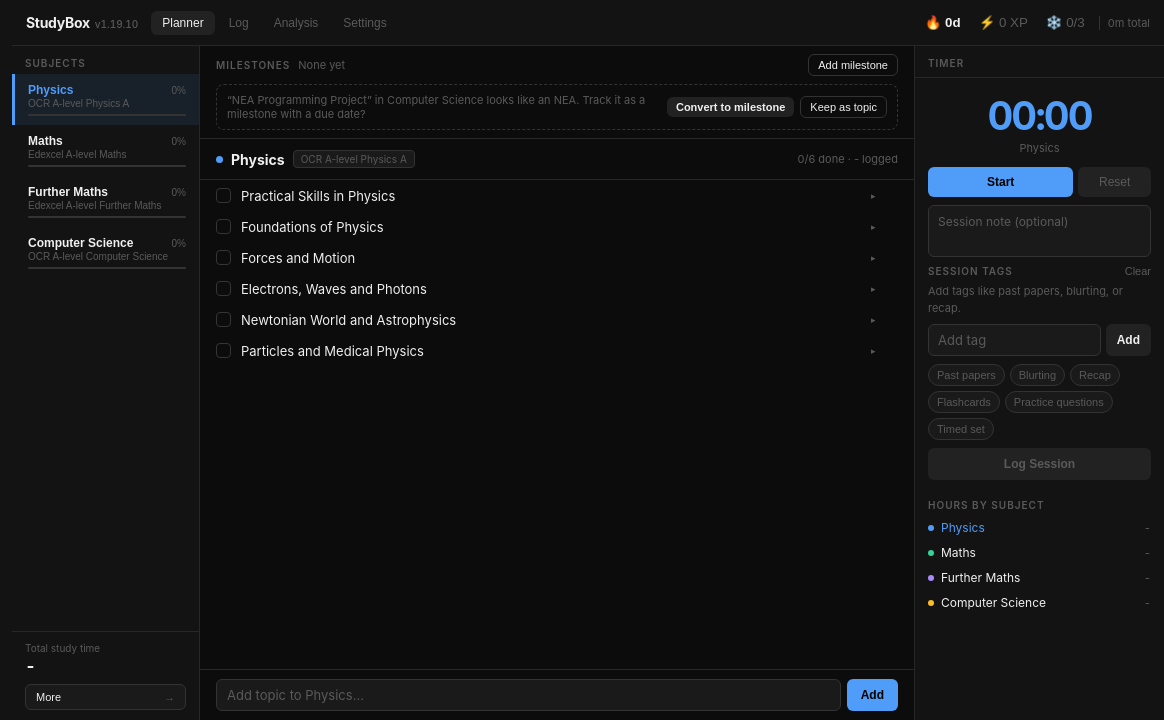
Test: when storage is full › clears the banner once the change is saved
The image size is (1164, 720).
Click the checkbox named "Complete topic ": x=224, y=196 [216,188,231,203]
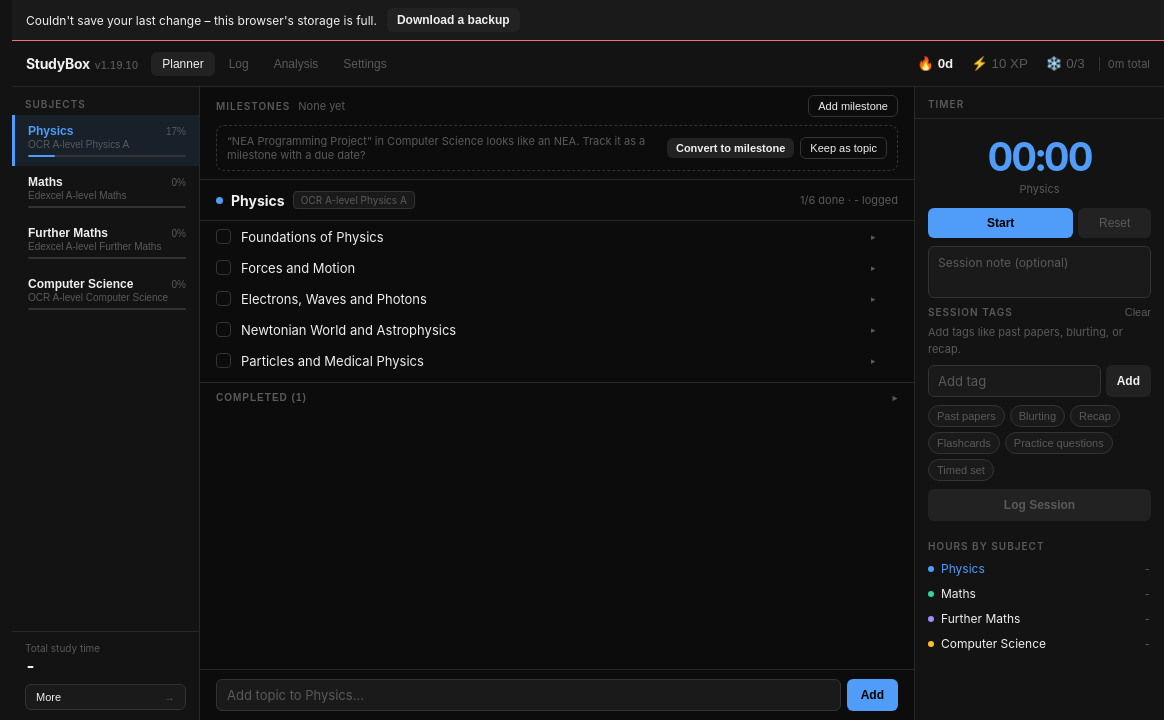
Check: the message "Couldn't save" is shown, box [12,0,1163,41]
Click the checkbox named "Complete topic ": x=224, y=236 [216,229,231,244]
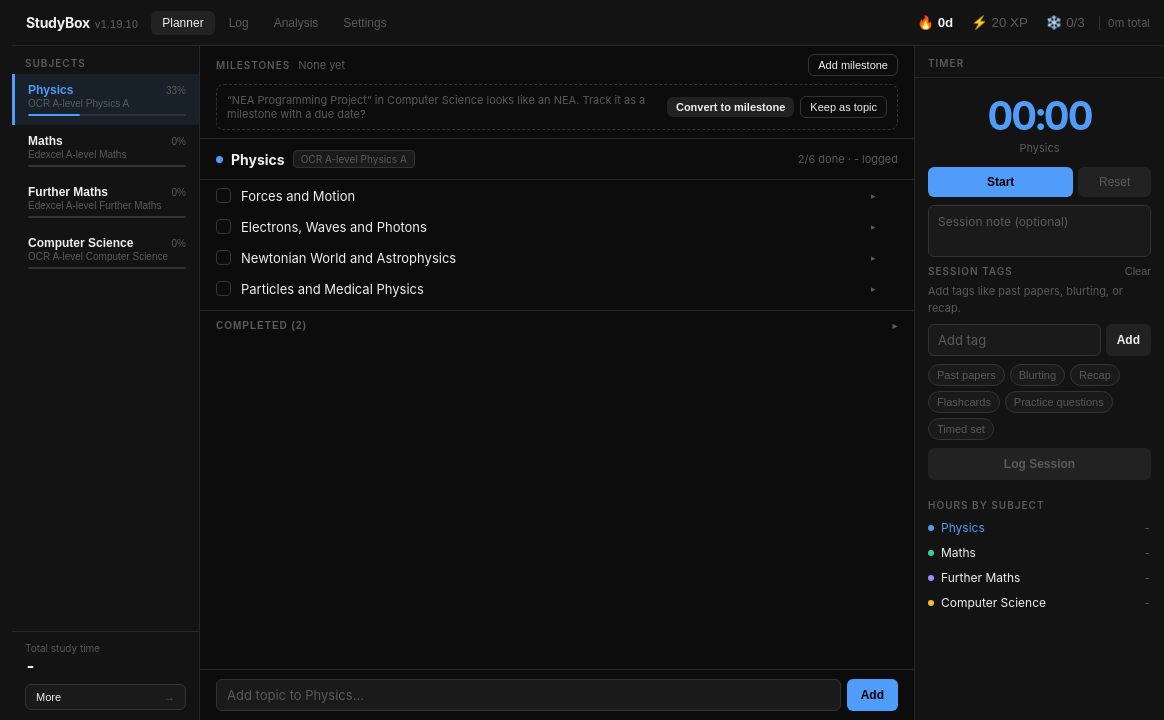
Check: the text "Couldn't save" is gone
